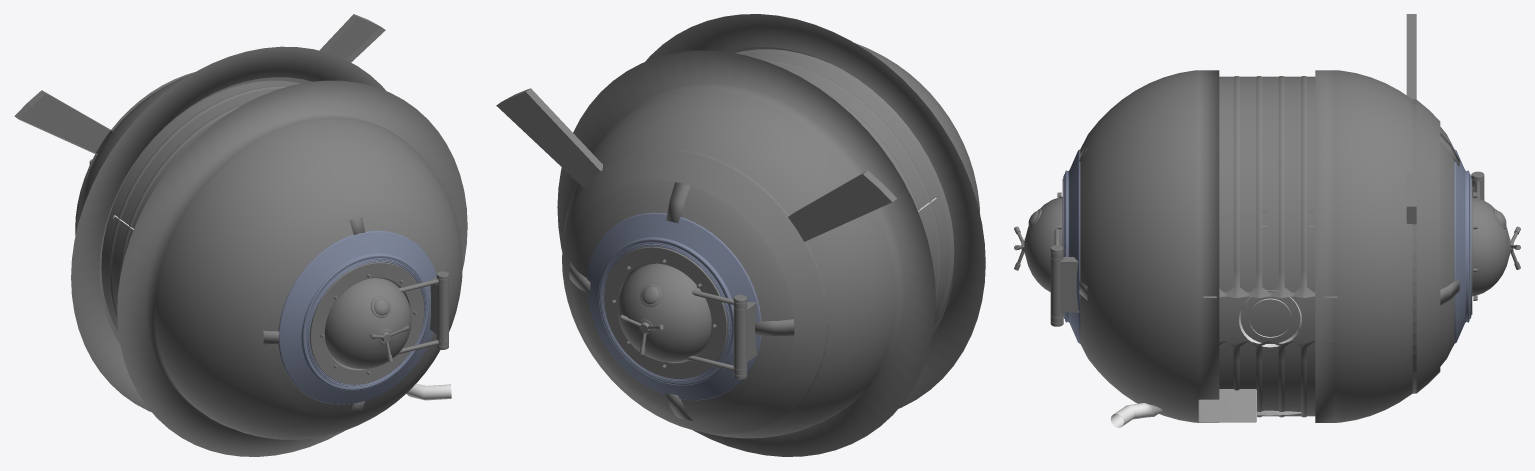
Rendered from ToSpaceTunnelLoading1.fbx.
3 renders of one model, left to right at view 1: azimuth 30°, elevation 25°; view 2: azimuth 150°, elevation 25°; view 3: azimuth 270°, elevation 25°, orthographic. The views are drawn at different scales.
Visible parts, largest first — view 1: ToSpaceCapsuleLoading001, ToSpaceCapsuleLoading025, ToSpaceCapsuleLoading002, ToSpaceCapsuleLoading015, ToSpaceCapsuleLoading023, ToSpaceCapsuleLoading016, ToSpaceCapsuleLoading003, ToSpaceCapsuleLoading020, ToSpaceCapsuleLoading024, ToSpaceCapsuleLoading004, ToSpaceCapsuleLoading013; view 2: ToSpaceCapsuleLoading001, ToSpaceCapsuleLoading023, ToSpaceCapsuleLoading005, ToSpaceCapsuleLoading027, ToSpaceCapsuleLoading015, ToSpaceCapsuleLoading016, ToSpaceCapsuleLoading012, ToSpaceCapsuleLoading006, ToSpaceCapsuleLoading007, ToSpaceCapsuleLoading018; view 3: ToSpaceCapsuleLoading001, ToSpaceCapsuleLoading015, ToSpaceCapsuleLoading023, ToSpaceCapsuleLoading016, ToSpaceCapsuleLoading005, ToSpaceCapsuleLoading027, ToSpaceCapsuleLoading002, ToSpaceCapsuleLoading025, ToSpaceCapsuleLoading043, ToSpaceCapsuleLoading003, ToSpaceCapsuleLoading024.
Part boxes in pixels (x1,y1,x2,y2): ToSpaceCapsuleLoading001: (71,46,467,456); ToSpaceCapsuleLoading025: (278,230,436,404); ToSpaceCapsuleLoading002: (310,262,424,384); ToSpaceCapsuleLoading015: (101,80,300,332); ToSpaceCapsuleLoading023: (14,14,385,235); ToSpaceCapsuleLoading016: (109,85,289,321); ToSpaceCapsuleLoading003: (430,271,448,349); ToSpaceCapsuleLoading020: (99,77,311,343); ToSpaceCapsuleLoading024: (406,383,451,400); ToSpaceCapsuleLoading004: (397,277,448,354); ToSpaceCapsuleLoading013: (263,217,365,413); ToSpaceCapsuleLoading001: (557,14,985,456); ToSpaceCapsuleLoading023: (496,88,896,434); ToSpaceCapsuleLoading005: (604,246,727,379); ToSpaceCapsuleLoading027: (587,212,761,400); ToSpaceCapsuleLoading015: (741,52,950,318); ToSpaceCapsuleLoading016: (735,49,954,325); ToSpaceCapsuleLoading012: (569,182,794,420); ToSpaceCapsuleLoading006: (733,294,757,379); ToSpaceCapsuleLoading007: (686,290,747,375); ToSpaceCapsuleLoading018: (725,47,954,334); ToSpaceCapsuleLoading001: (1080,70,1454,422); ToSpaceCapsuleLoading015: (1219,76,1315,416); ToSpaceCapsuleLoading023: (1406,14,1440,393); ToSpaceCapsuleLoading016: (1203,76,1337,417); ToSpaceCapsuleLoading005: (1471,178,1510,314); ToSpaceCapsuleLoading027: (1454,149,1471,343); ToSpaceCapsuleLoading002: (1024,178,1063,291); ToSpaceCapsuleLoading025: (1063,149,1080,343); ToSpaceCapsuleLoading043: (1198,389,1256,422); ToSpaceCapsuleLoading003: (1050,245,1079,326); ToSpaceCapsuleLoading024: (1110,403,1162,427).
Bounding box in the file's own units: 435 × 416 × 501.
